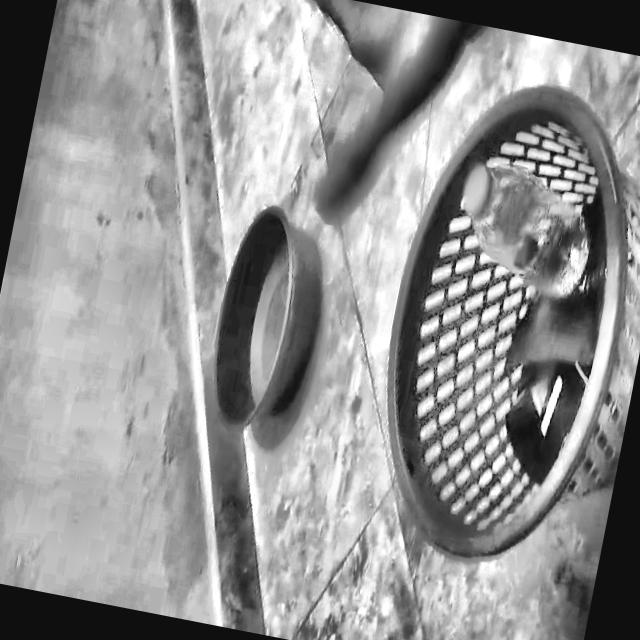Bottle-Disposed: (368, 98, 635, 576)
Dustbin: (337, 62, 640, 632)
Plastic-Bottle: (437, 148, 612, 330)
